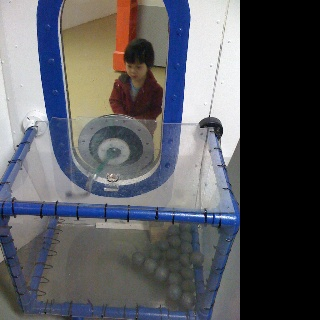without_mask: (126, 64, 148, 80)
